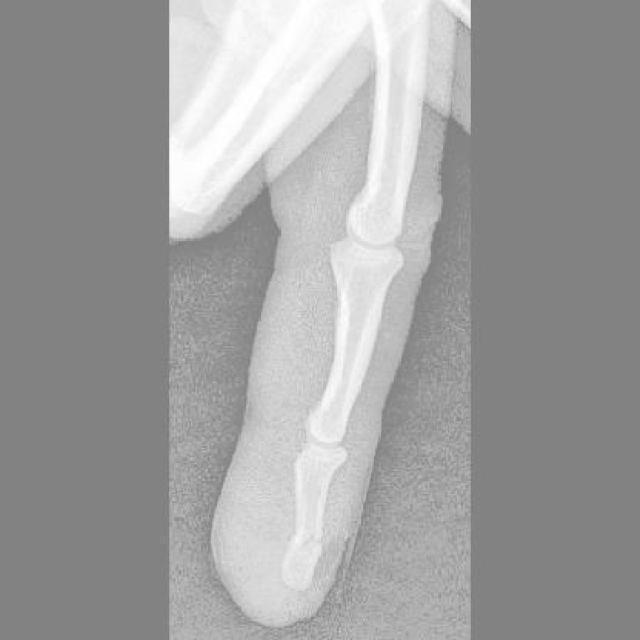Fracture: (294, 525, 333, 561)
